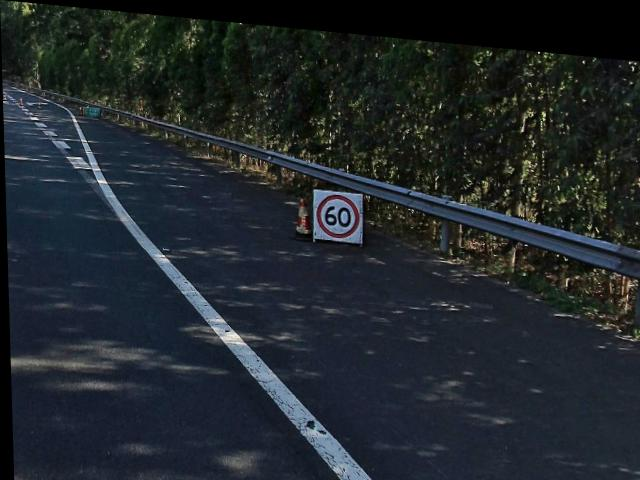limit60: (313, 181, 362, 237)
